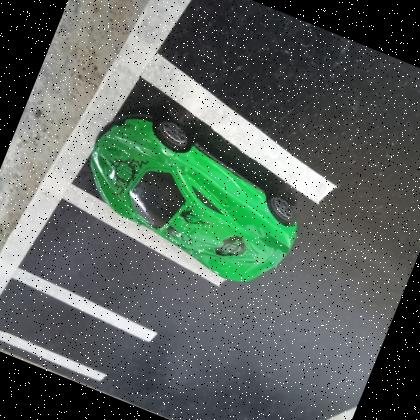Car: (89, 112, 299, 282)
